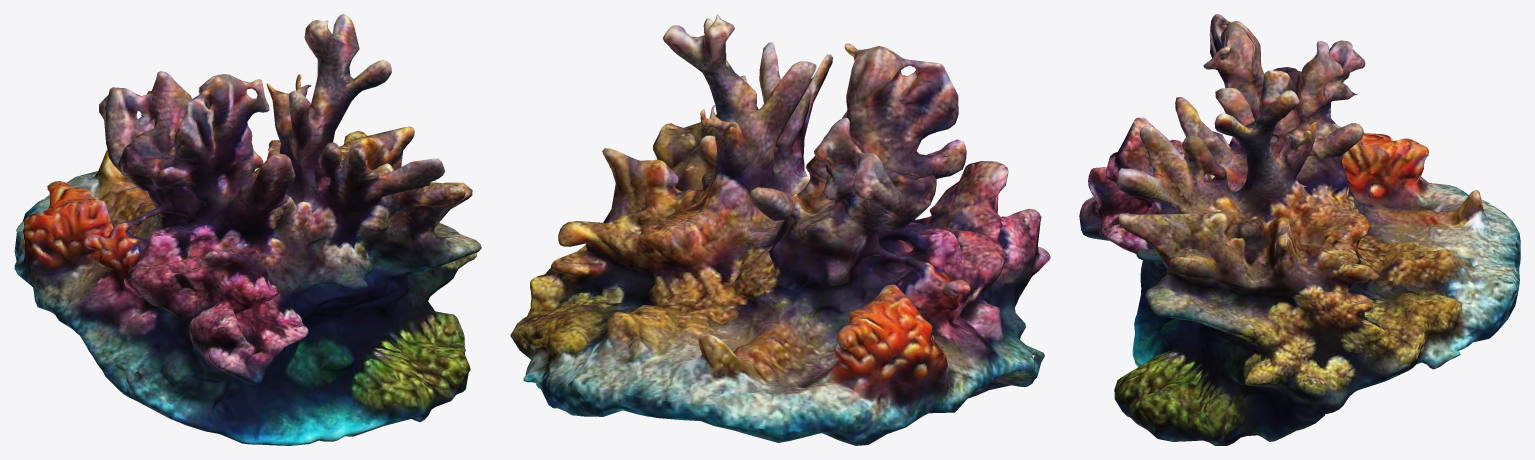
Rendered from coral-reef.glb.
3 views of the same model, side by side, from view 1: azimuth 30°, elevation 25°; view 2: azimuth 150°, elevation 25°; view 3: azimuth 270°, elevation 25° (orthographic). The views are drawn at different scales.
Visible parts, largest first — view 1: Object_4; view 2: Object_4; view 3: Object_4.
Boxes of the visible parts, bbox=[...] form: Object_4: bbox=[14, 14, 481, 445]; Object_4: bbox=[510, 14, 1050, 445]; Object_4: bbox=[1079, 14, 1520, 445].
Size of the model in its own units: 1.57 by 1.36 by 1.6.
1 material, 1 textured.
